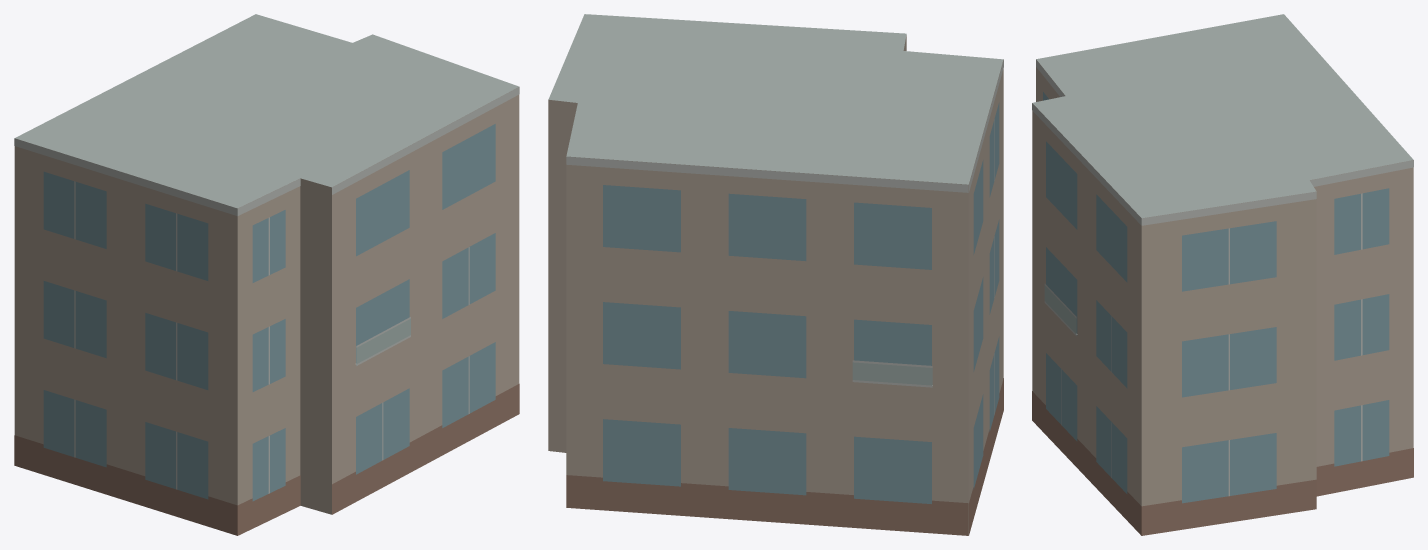
The model's file is survey-upis-32984004.glb.
The picture shows the model from 3 angles, left to right: view 1: azimuth 30°, elevation 25°; view 2: azimuth 150°, elevation 25°; view 3: azimuth 270°, elevation 25°; orthographic projection. The views are drawn at different scales.
Visible parts, largest first — view 1: survey-upis-32984004.tmp; view 2: survey-upis-32984004.tmp; view 3: survey-upis-32984004.tmp.
Part boxes in pixels (x1,y1,x2,y2): survey-upis-32984004.tmp: (14,14,519,535); survey-upis-32984004.tmp: (548,14,1003,535); survey-upis-32984004.tmp: (1032,14,1413,535).
Size of the model in its own units: 14.22 by 10.3 by 11.23.
